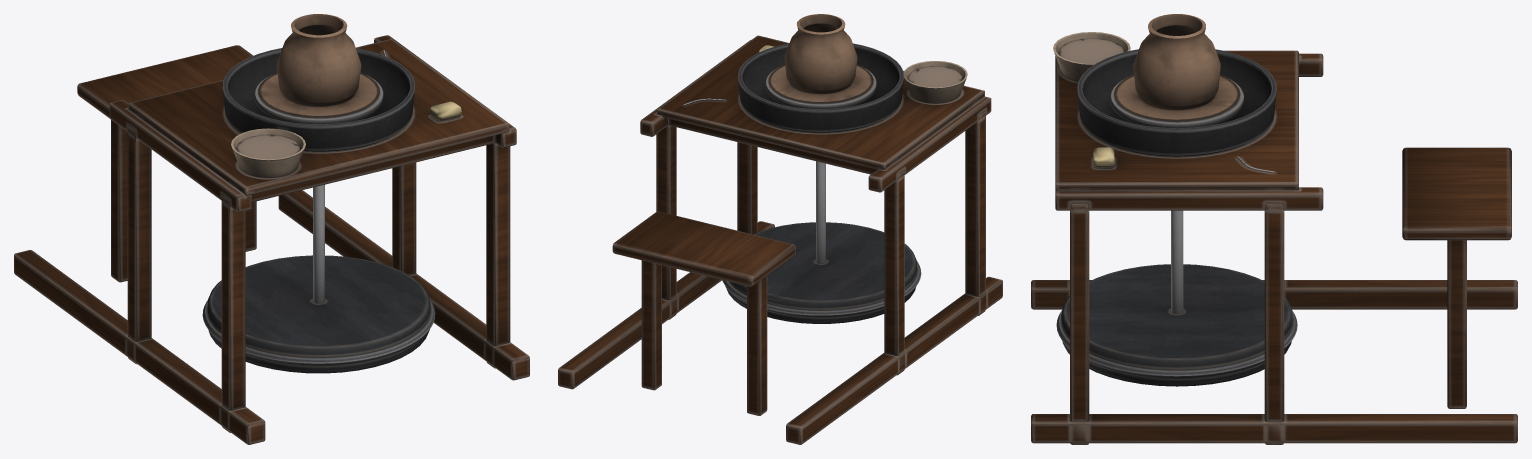
Rendered from PottersWheel.fbx.
3 views of the same model, side by side, from view 1: azimuth 30°, elevation 25°; view 2: azimuth 150°, elevation 25°; view 3: azimuth 270°, elevation 25° (orthographic). The views are drawn at different scales.
Parts seen in each view (by area): view 1: PottersWheel; view 2: PottersWheel; view 3: PottersWheel.
Part boxes in pixels (bbox=[...]): PottersWheel: bbox=[14, 14, 529, 444]; PottersWheel: bbox=[558, 14, 1002, 444]; PottersWheel: bbox=[1031, 14, 1517, 444].
Bounding box in the file's own units: 278 × 317 × 400.
